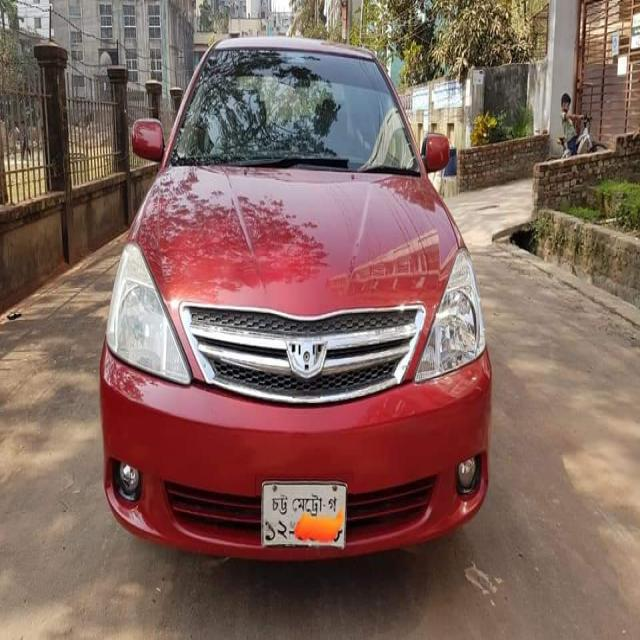maroon: (100, 32, 493, 555)
